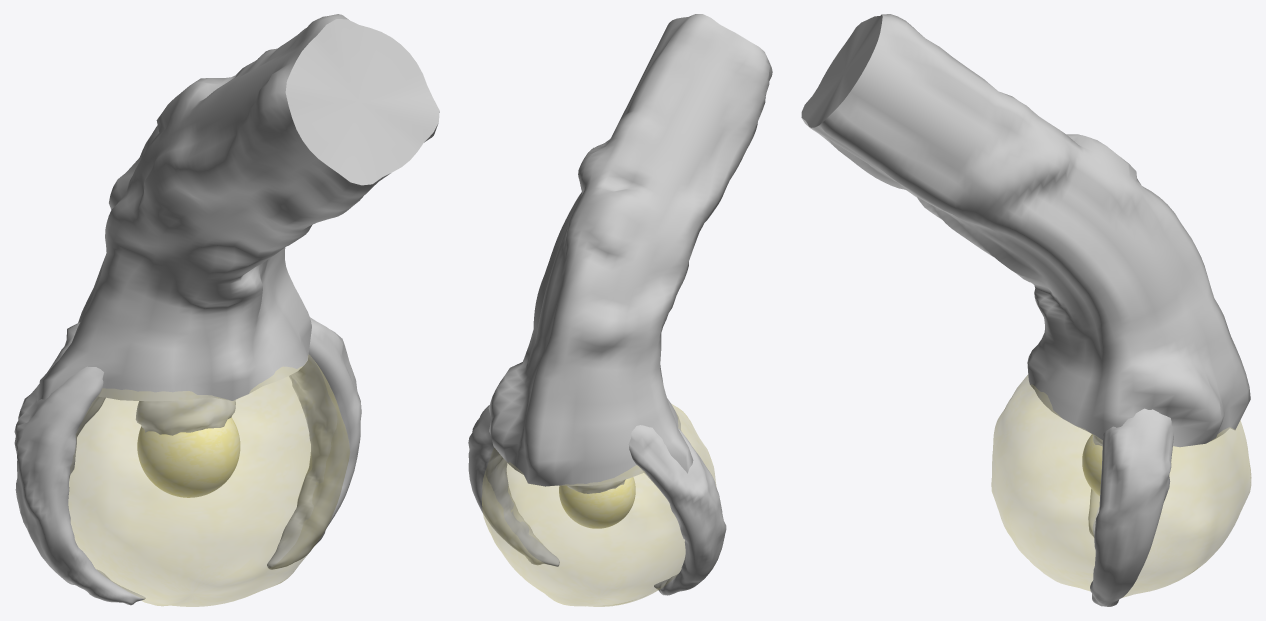
File: wall lamp.fbx
3 views of the same model, side by side, from view 1: azimuth 30°, elevation 25°; view 2: azimuth 150°, elevation 25°; view 3: azimuth 270°, elevation 25° (orthographic). The views are drawn at different scales.
Visible parts, largest first — view 1: pCylinder2, pSphere1, pCylinder5, pCylinder4, pSphere2, pCylinder6; view 2: pCylinder2, pSphere1, pCylinder5, pCylinder4, pSphere2; view 3: pCylinder2, pSphere1, pCylinder4, pSphere2.
Part boxes in pixels (x1,y1,x2,y2): pCylinder2: [37, 14, 439, 401]; pSphere1: [68, 355, 349, 606]; pCylinder5: [14, 322, 145, 605]; pCylinder4: [267, 317, 361, 569]; pSphere2: [137, 417, 240, 497]; pCylinder6: [135, 397, 235, 435]; pCylinder2: [488, 14, 772, 486]; pSphere1: [481, 404, 716, 606]; pCylinder5: [628, 425, 726, 595]; pCylinder4: [468, 405, 559, 566]; pSphere2: [559, 477, 635, 528]; pCylinder2: [801, 14, 1250, 447]; pSphere1: [991, 375, 1251, 597]; pCylinder4: [1090, 408, 1173, 606]; pSphere2: [1082, 434, 1102, 496].
Bounding box in the file's own units: 1.75 × 3.44 × 2.46.
